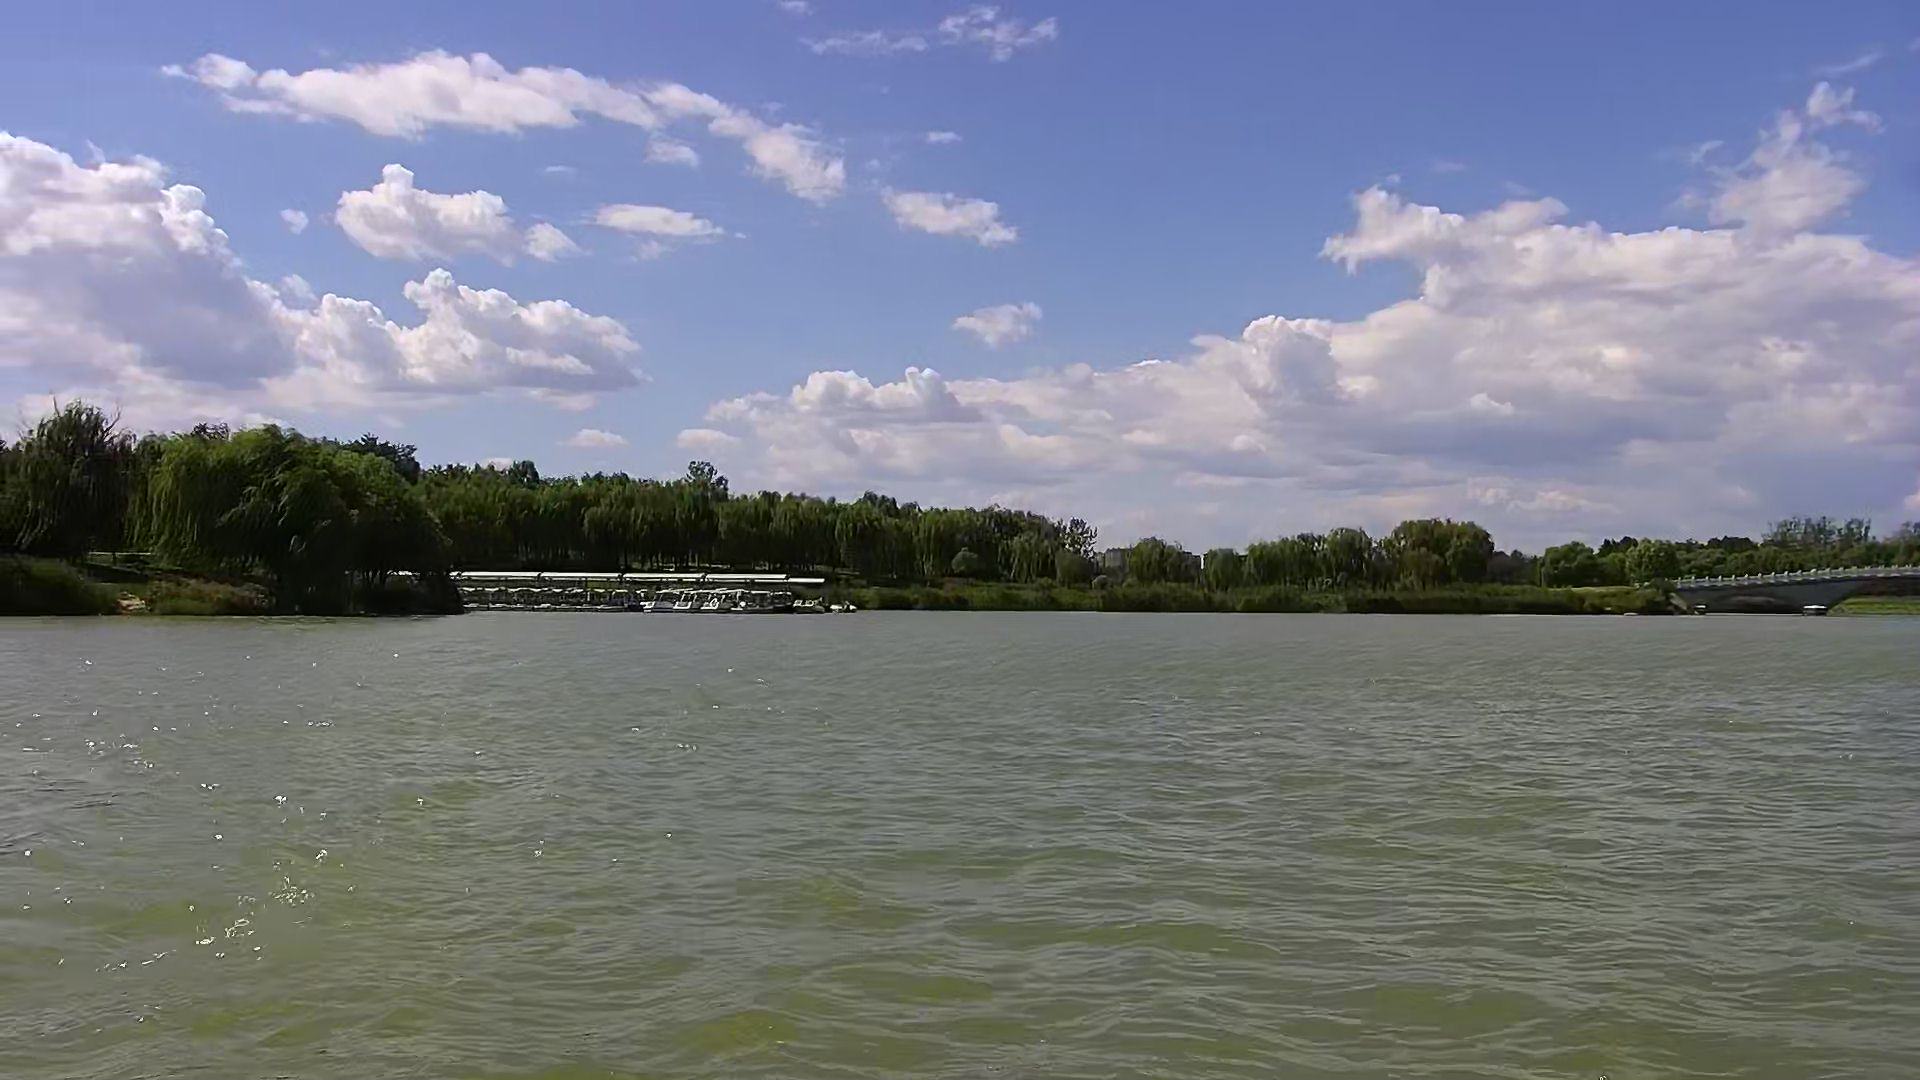bridge: (1676, 559, 1917, 618)
harbor: (439, 555, 853, 626)
